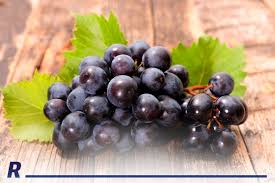Black grapes: (41, 43, 245, 154)
